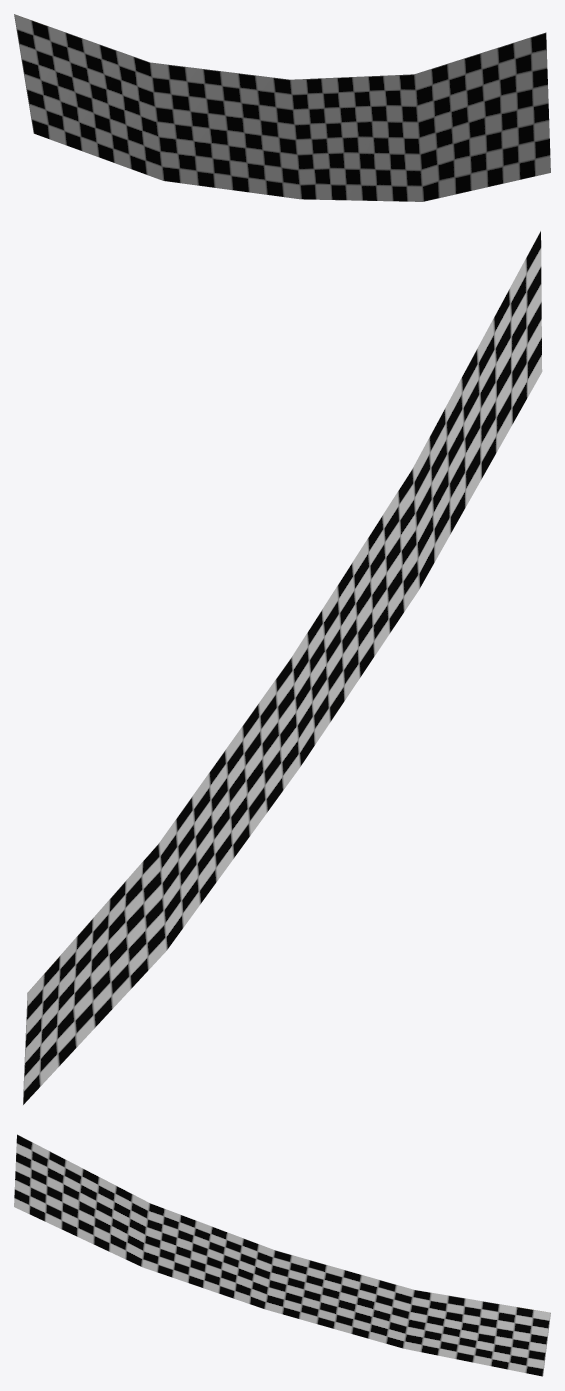
Rendered from decorations.obj.
3 views of the same model, one above another, from view 1: azimuth 30°, elevation 25°; view 2: azimuth 150°, elevation 25°; view 3: azimuth 270°, elevation 25° (orthographic). The views are drawn at different scales.
Parts seen in each view (by area): view 1: pole; view 2: pole; view 3: pole.
Boxes of the visible parts, box(x1,y1,x2,y2) form: pole: box(14, 14, 550, 201); pole: box(23, 231, 542, 1104); pole: box(14, 1134, 550, 1376).
Size of the model in its own units: 0.2547 by 5.33 by 10.62.
Materials: 1 (1 with a texture image).
